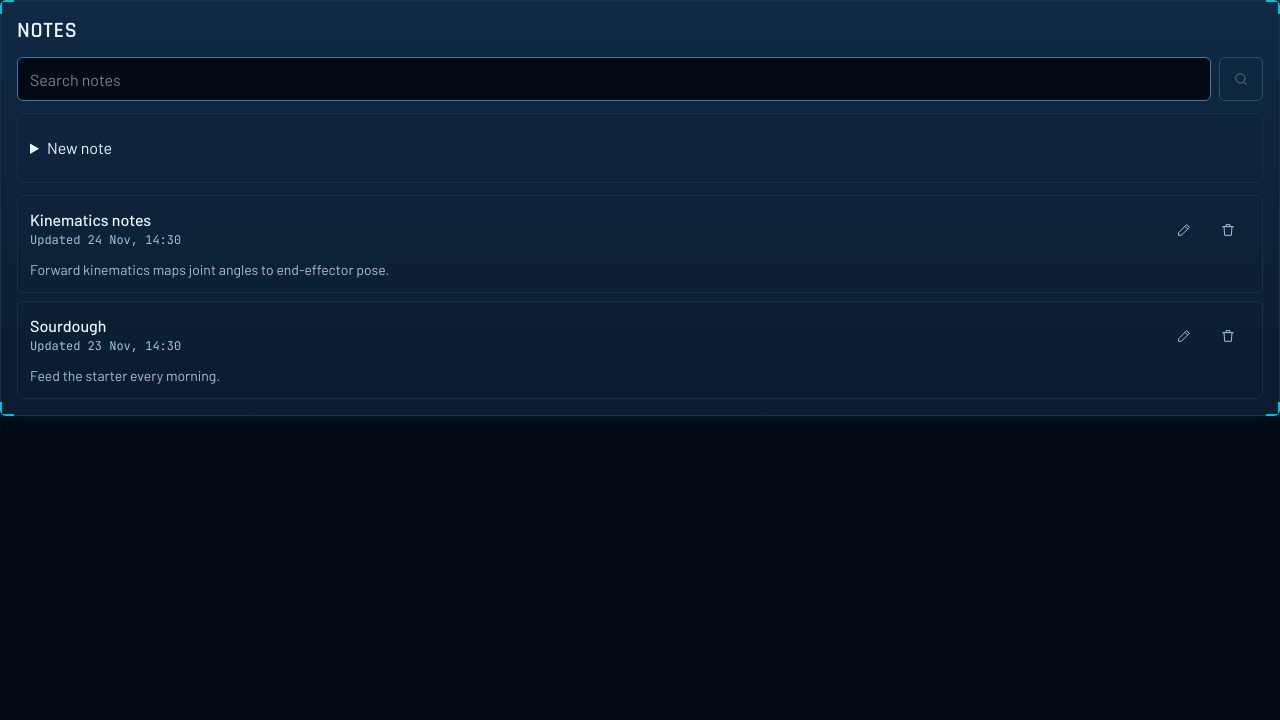
note board (M2-8b) › search returns matching notes and hides the rest
Type "kinematics" into the search field labelled "Search notes" at (614, 79), box x1=17 y1=57 x2=1211 y2=101
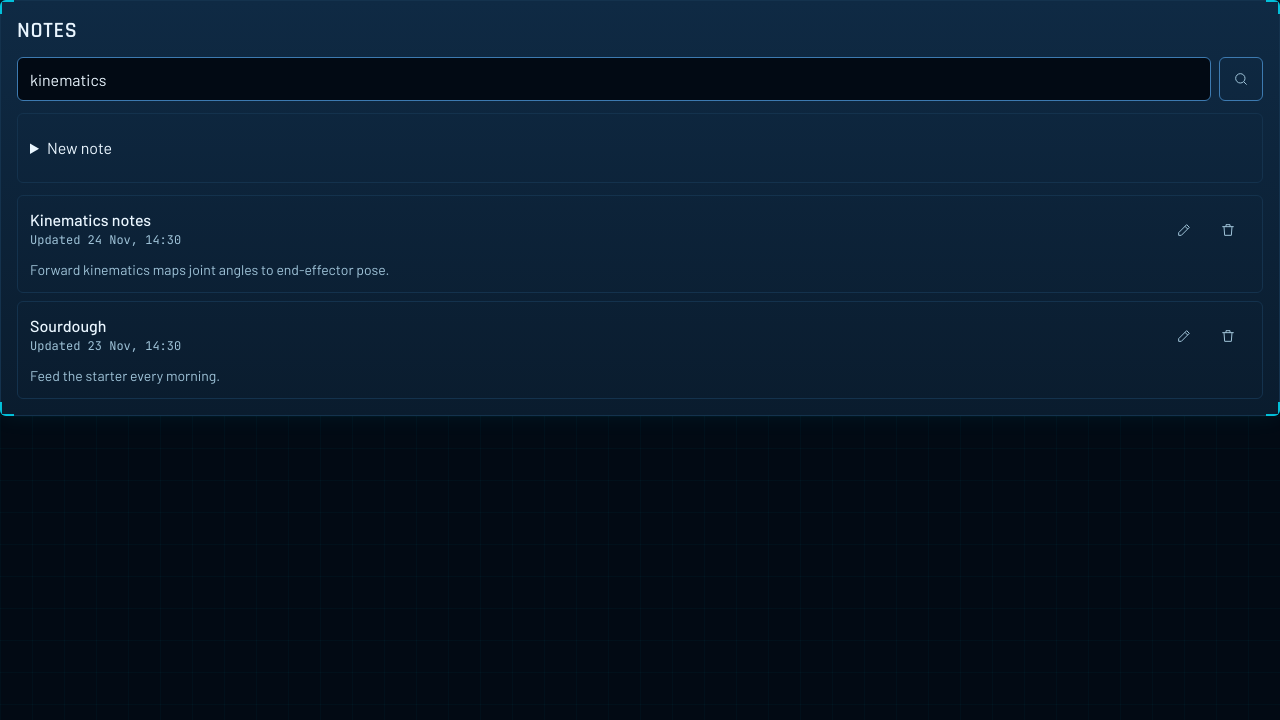
Click the button named "Search" at (1241, 79), box x1=1219 y1=57 x2=1263 y2=101
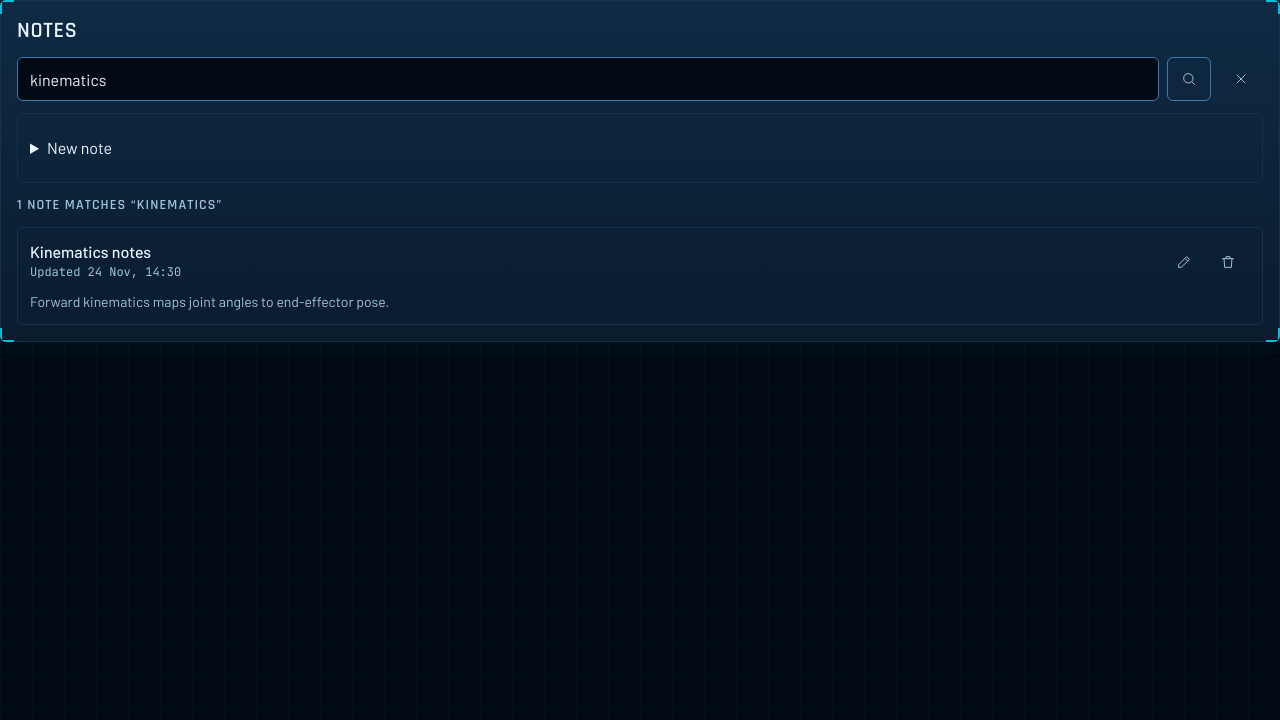
Expected: the heading "Kinematics notes" is shown, x1=30 y1=242 x2=151 y2=261
Expected: the text "1 note matches “kinematics”" is shown, x1=17 y1=196 x2=222 y2=214
Expected: the heading "Sourdough" is gone
